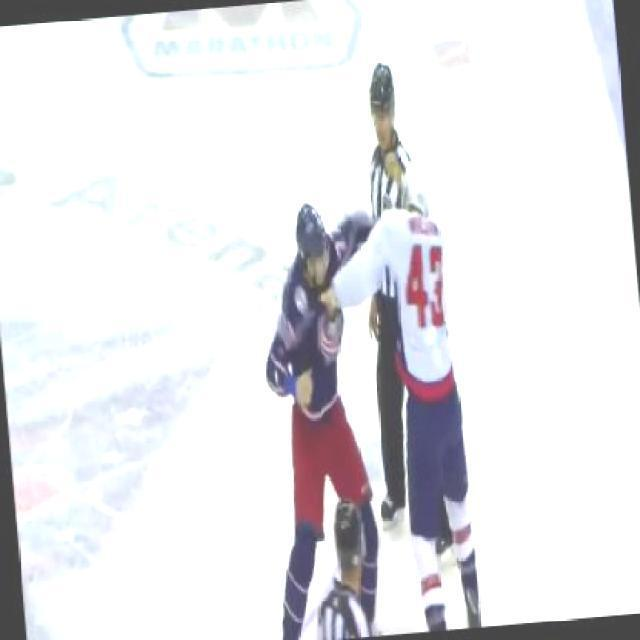fight: (244, 156, 486, 638)
